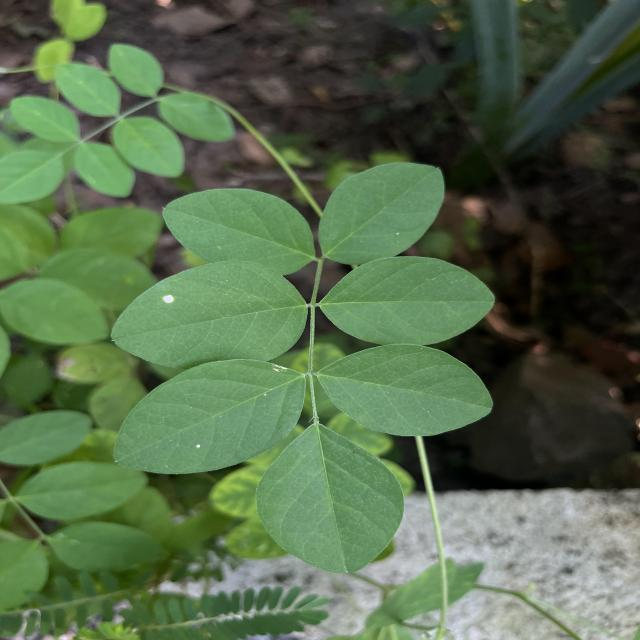Clitoria ternatea: (111, 356, 306, 476), (254, 422, 406, 575), (110, 258, 310, 370), (316, 342, 498, 438), (316, 255, 498, 348), (160, 186, 318, 276), (317, 160, 447, 266)
